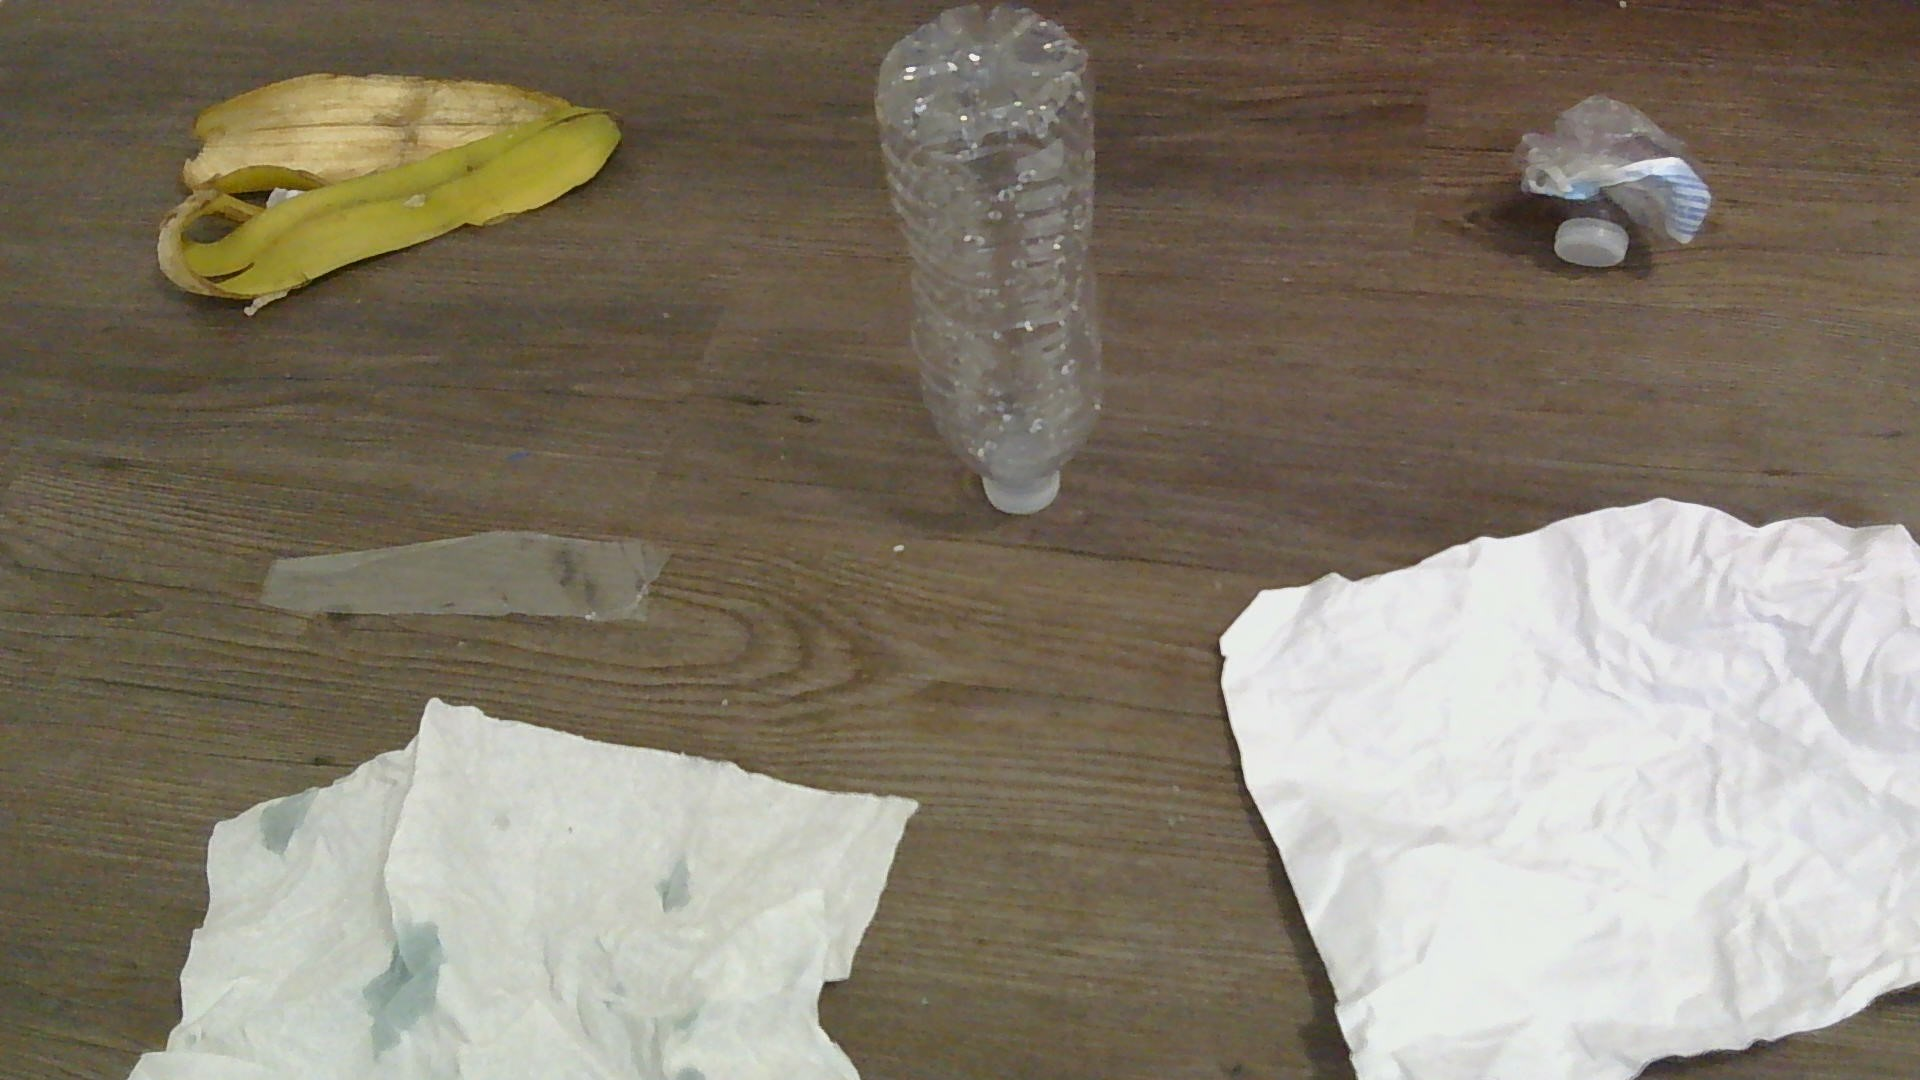banana peel: (154, 75, 618, 315)
bottle: (870, 0, 1106, 520)
crushed bottle: (1518, 90, 1720, 266)
napkin: (150, 690, 915, 1080)
paper: (1218, 498, 1917, 1080)
plastic piece: (258, 522, 663, 626)
